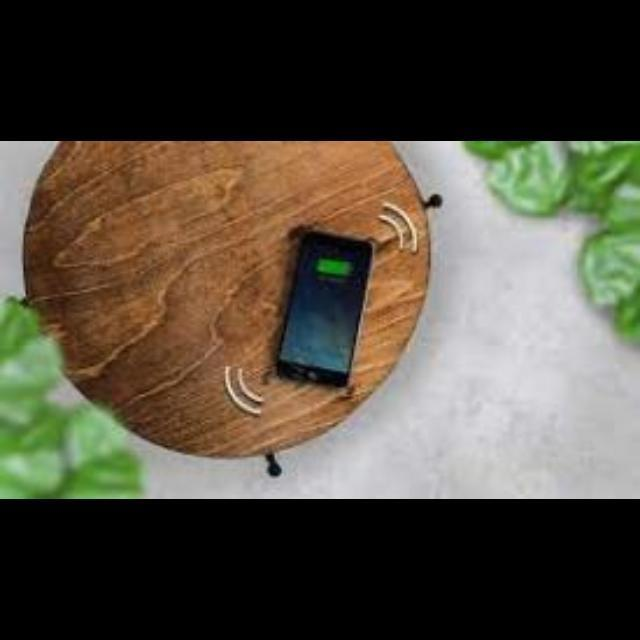PhoneUse: (278, 231, 374, 391)
